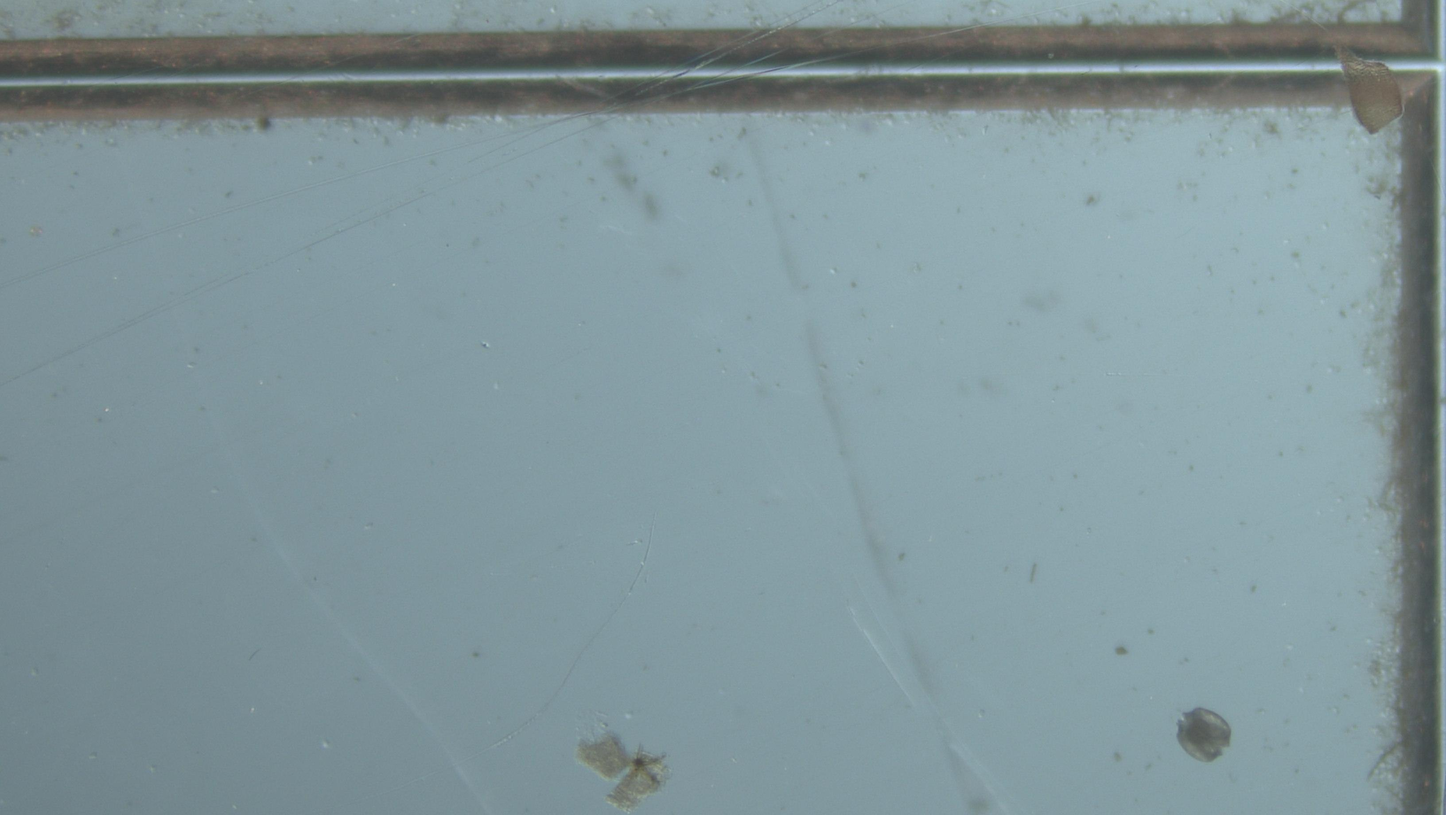live: (1177, 707, 1232, 763)
